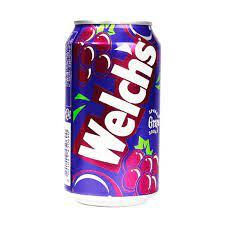welchs_grape: (55, 12, 166, 209)
